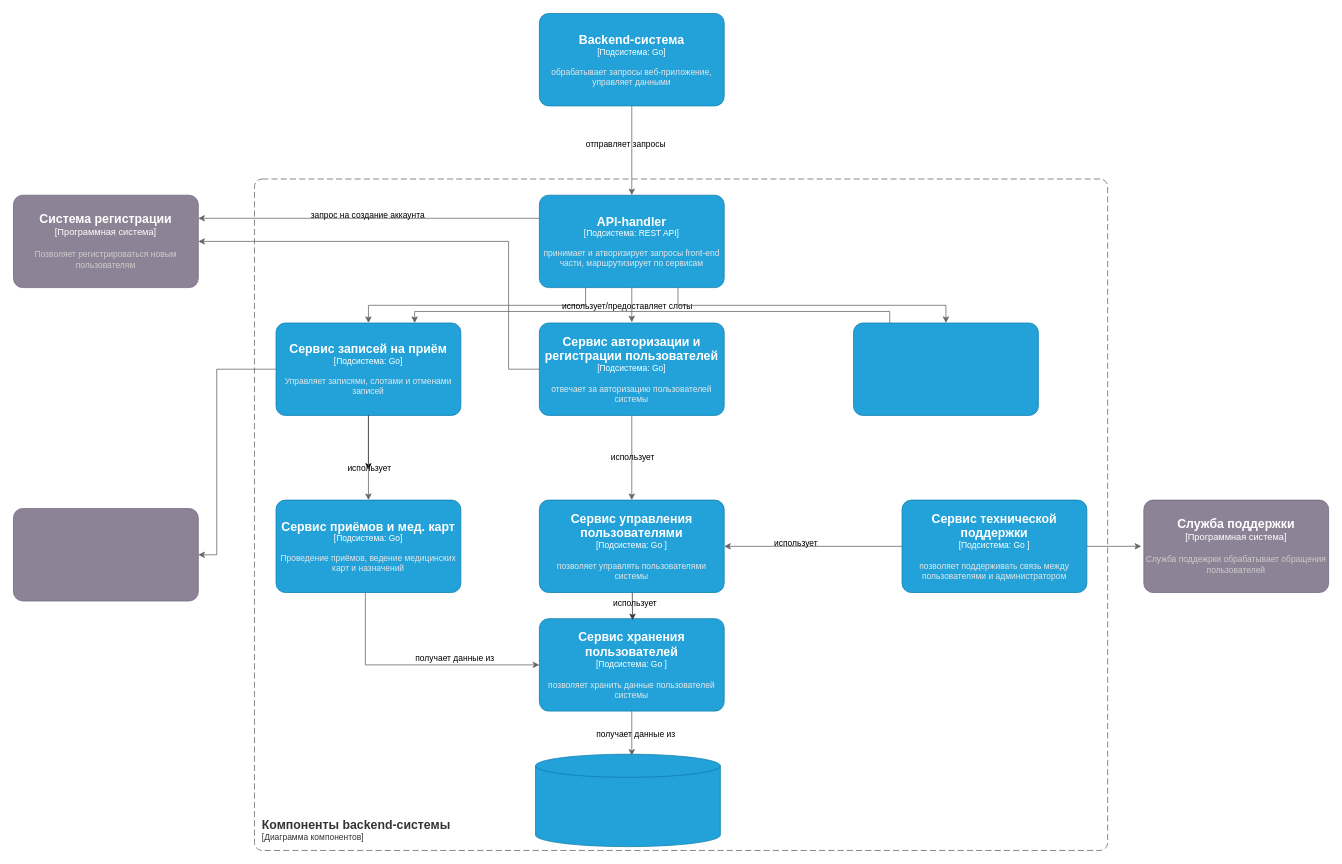
This 1342x864 diagram has some shape labels left out. The centre of each missing label's shape, as x and y in pixels:
"Email-сервис [Программная система] Отправка email-уведомлений пациентам" belongs at [105,554].
"База данных [Container: PostreSQL] Хранилище данных клиники" belongs at [627,800].
"Сервис расписания врачей [Подсистема: Go] Управляет расписанием врачей" belongs at [945,368].
